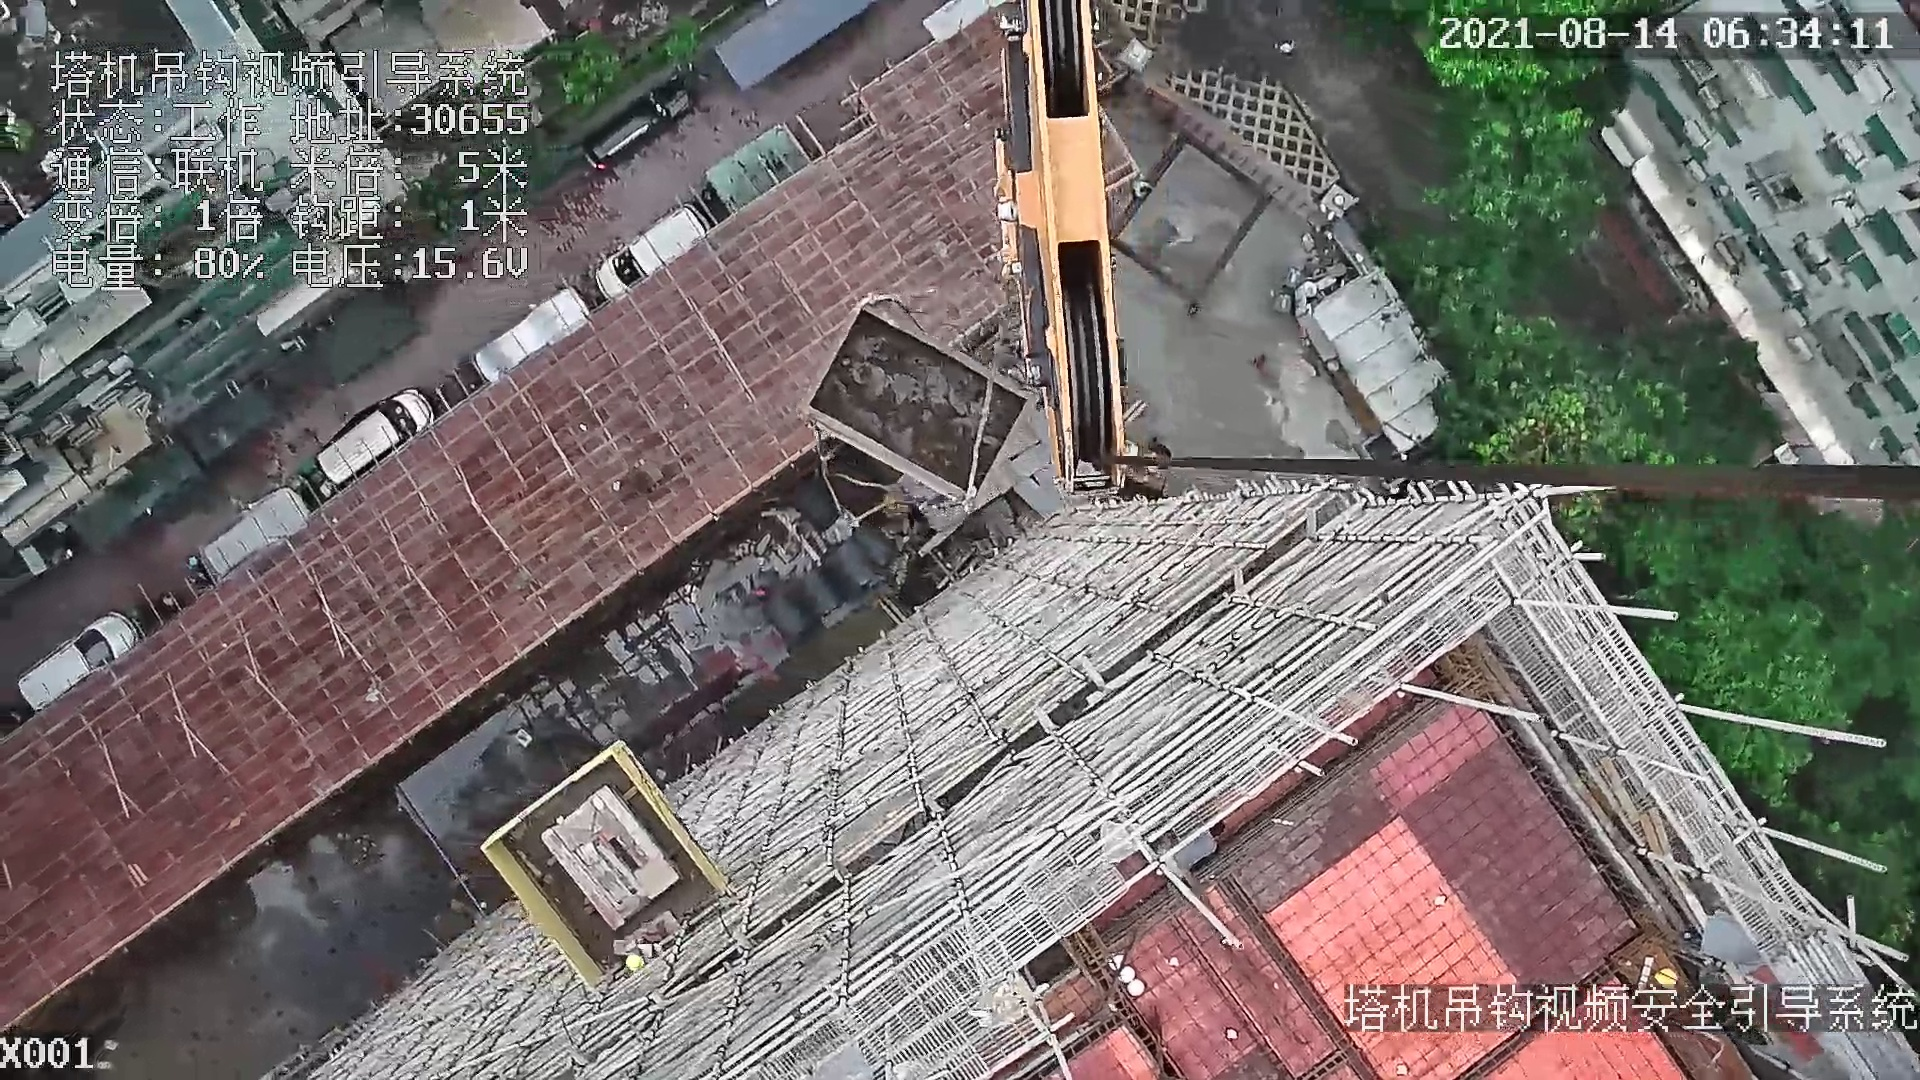helmet: (1656, 967, 1683, 994)
hook: (982, 3, 1164, 502)
hopper: (796, 306, 1046, 545)
